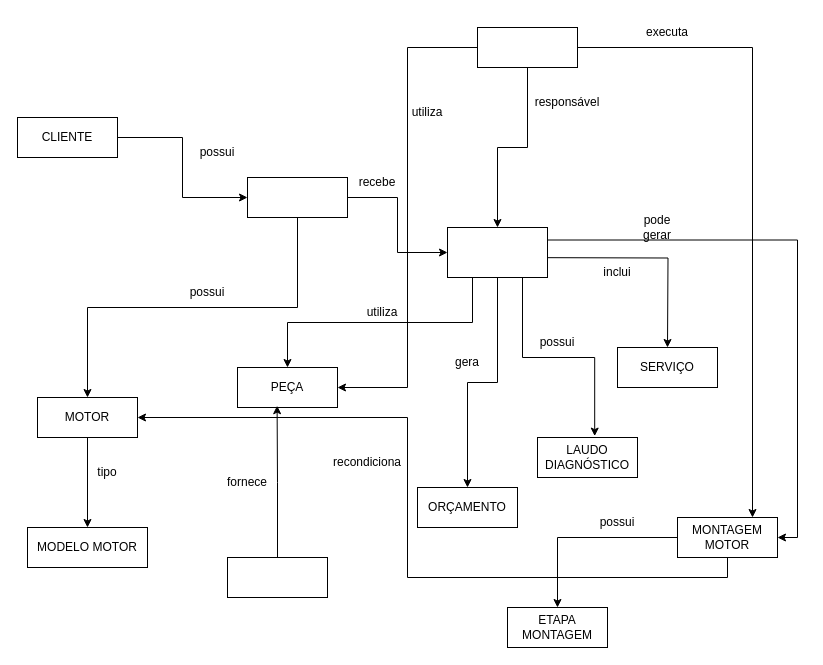
Some shapes in this 823 by 665 pixel diagram are drawn without their labels. The box of each missing label's shape, as (x1, y1, x2, y2) in pixels:
FORNECEDOR: (226, 556, 328, 598)
FUNCIONÁRIO: (476, 26, 578, 68)
ORDEM DE SERVIÇO: (446, 226, 548, 278)
VEICULO: (246, 176, 348, 218)
